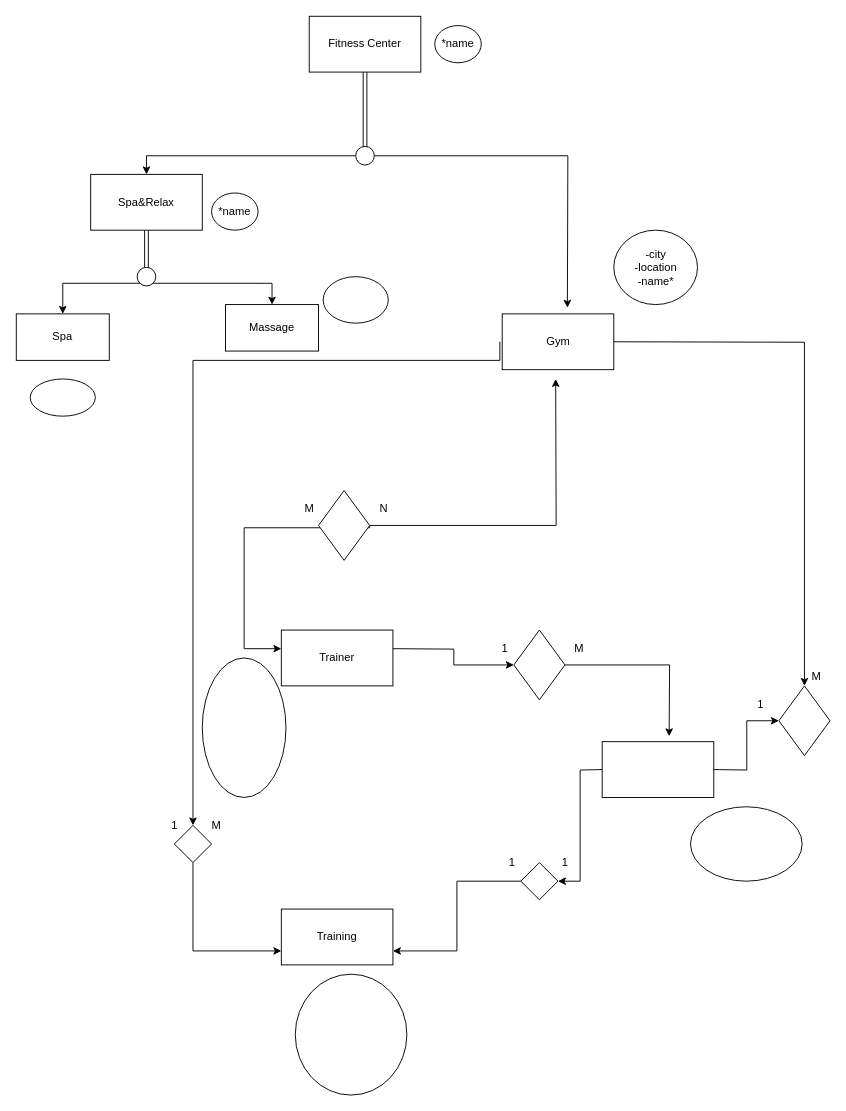
This 846x1111 diagram has some shape labels left out. The box of each missing label's shape, as (x1, y1, x2, y2) in pixels:
-duration -time: (29, 378, 95, 416)
-duration -type -time: (322, 276, 388, 323)
-name* -user -pass -credits -: (690, 806, 802, 881)
-type(cardio, upper body, lower body,functional) -duration -date: (294, 973, 407, 1095)
-user -pass -mail -number -name -sex -tip(personalen grupen): (201, 657, 286, 797)
Member: (601, 741, 714, 797)
